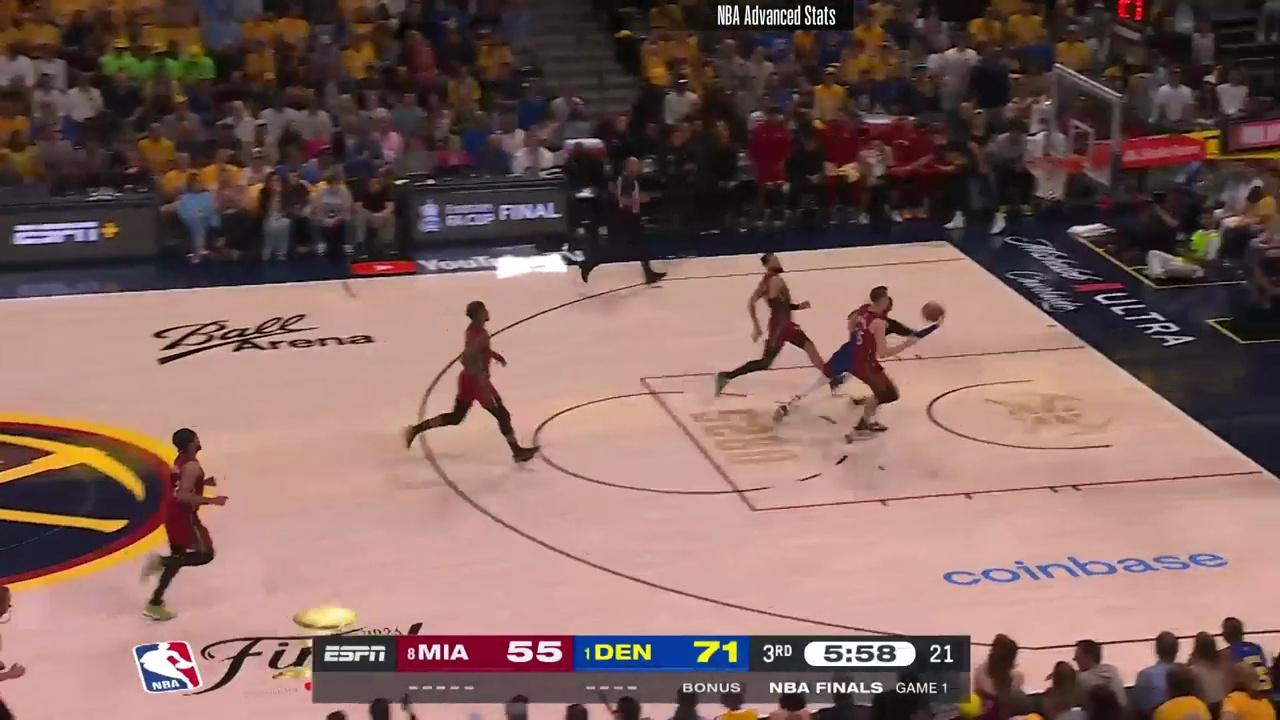Backboard: (1045, 72, 1121, 186)
Ball: (923, 302, 942, 324)
Basket: (1025, 152, 1076, 198)
Person: (407, 300, 538, 467), (140, 418, 238, 625), (713, 259, 831, 417), (826, 285, 927, 436)
Referee: (595, 150, 665, 289)
Shot Clock: (1109, 0, 1150, 46)
